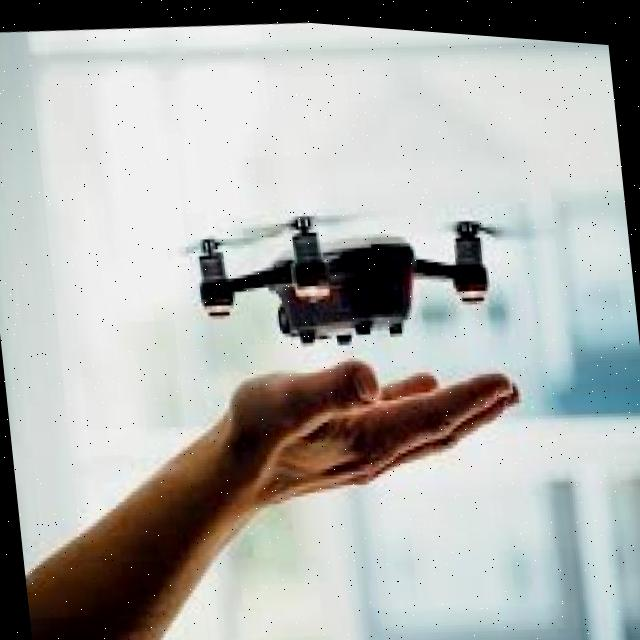drone: (162, 151, 540, 401)
